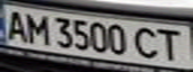0: (106, 21, 130, 56), (87, 20, 109, 54)
3: (48, 15, 72, 49)
5: (69, 17, 90, 52)
A: (0, 7, 30, 42)
C: (133, 25, 163, 61)
M: (21, 11, 51, 45)
T: (154, 26, 190, 62)
